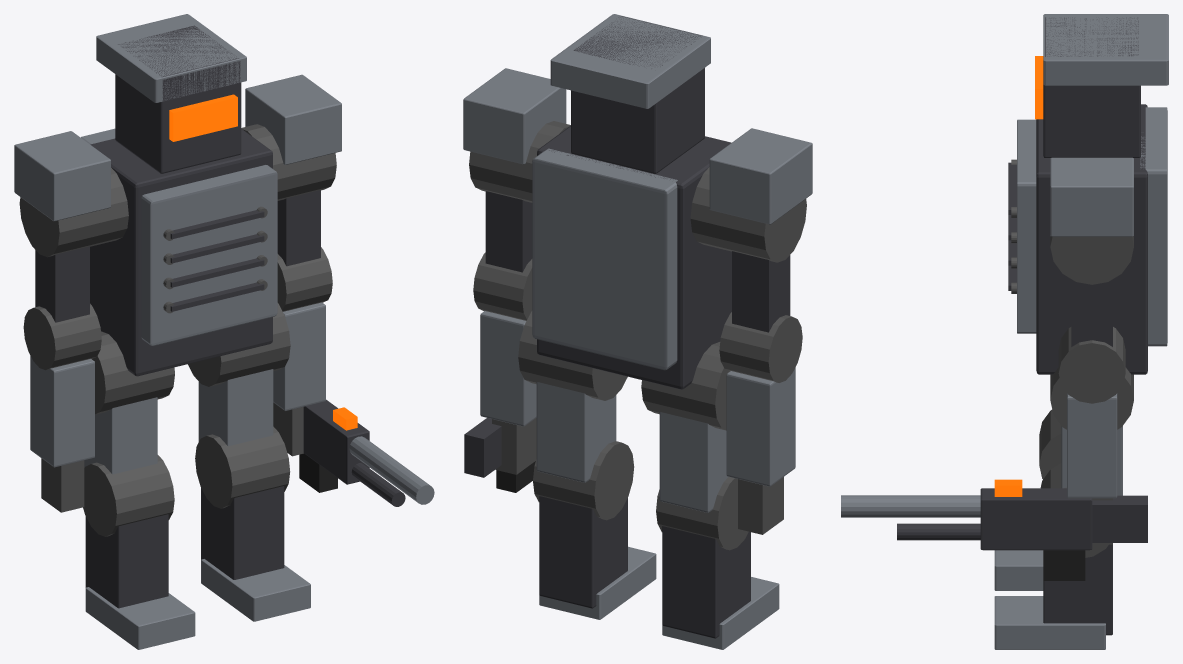
Rendered from security_robot.glb.
The picture shows the model from 3 angles, left to right: view 1: azimuth 30°, elevation 25°; view 2: azimuth 150°, elevation 25°; view 3: azimuth 270°, elevation 25°; orthographic projection. The views are drawn at different scales.
Parts seen in each view (by area): view 1: Robot_Torso, Robot_Arm_L, Robot_Leg_R, Robot_Leg_L, Robot_Arm_R, Robot_Head, Robot_Weapon; view 2: Robot_Torso, Robot_Arm_L, Robot_Leg_R, Robot_Leg_L, Robot_Arm_R, Robot_Head, Robot_Weapon; view 3: Robot_Arm_R, Robot_Torso, Robot_Head, Robot_Weapon, Robot_Leg_R, Robot_Leg_L.
Part boxes in pixels (x1,y1,x2,y2): Robot_Torso: [81, 128, 277, 376]; Robot_Arm_L: [14, 131, 128, 512]; Robot_Leg_R: [188, 303, 310, 621]; Robot_Leg_L: [83, 331, 195, 649]; Robot_Arm_R: [241, 74, 341, 456]; Robot_Head: [96, 14, 246, 173]; Robot_Weapon: [299, 399, 434, 506]; Robot_Torso: [532, 125, 731, 389]; Robot_Arm_L: [690, 128, 812, 534]; Robot_Leg_R: [518, 311, 656, 619]; Robot_Leg_L: [641, 342, 779, 649]; Robot_Arm_R: [463, 68, 570, 474]; Robot_Head: [550, 14, 710, 173]; Robot_Weapon: [464, 418, 535, 492]; Robot_Arm_R: [1050, 157, 1133, 544]; Robot_Torso: [1008, 104, 1167, 374]; Robot_Head: [1035, 14, 1168, 157]; Robot_Weapon: [841, 479, 1147, 580]; Robot_Leg_R: [994, 367, 1133, 649]; Robot_Leg_L: [994, 409, 1061, 590].
Bounding box in the file's own units: 1.25 × 2.25 × 1.18.
